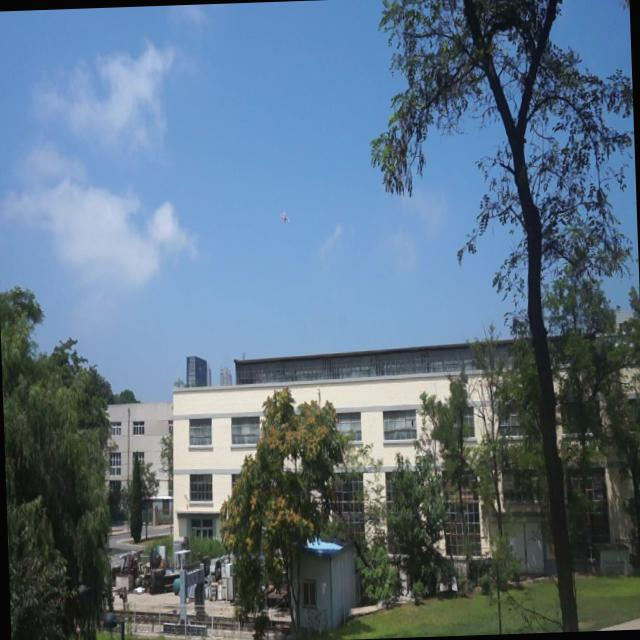drone: (276, 204, 292, 232)
